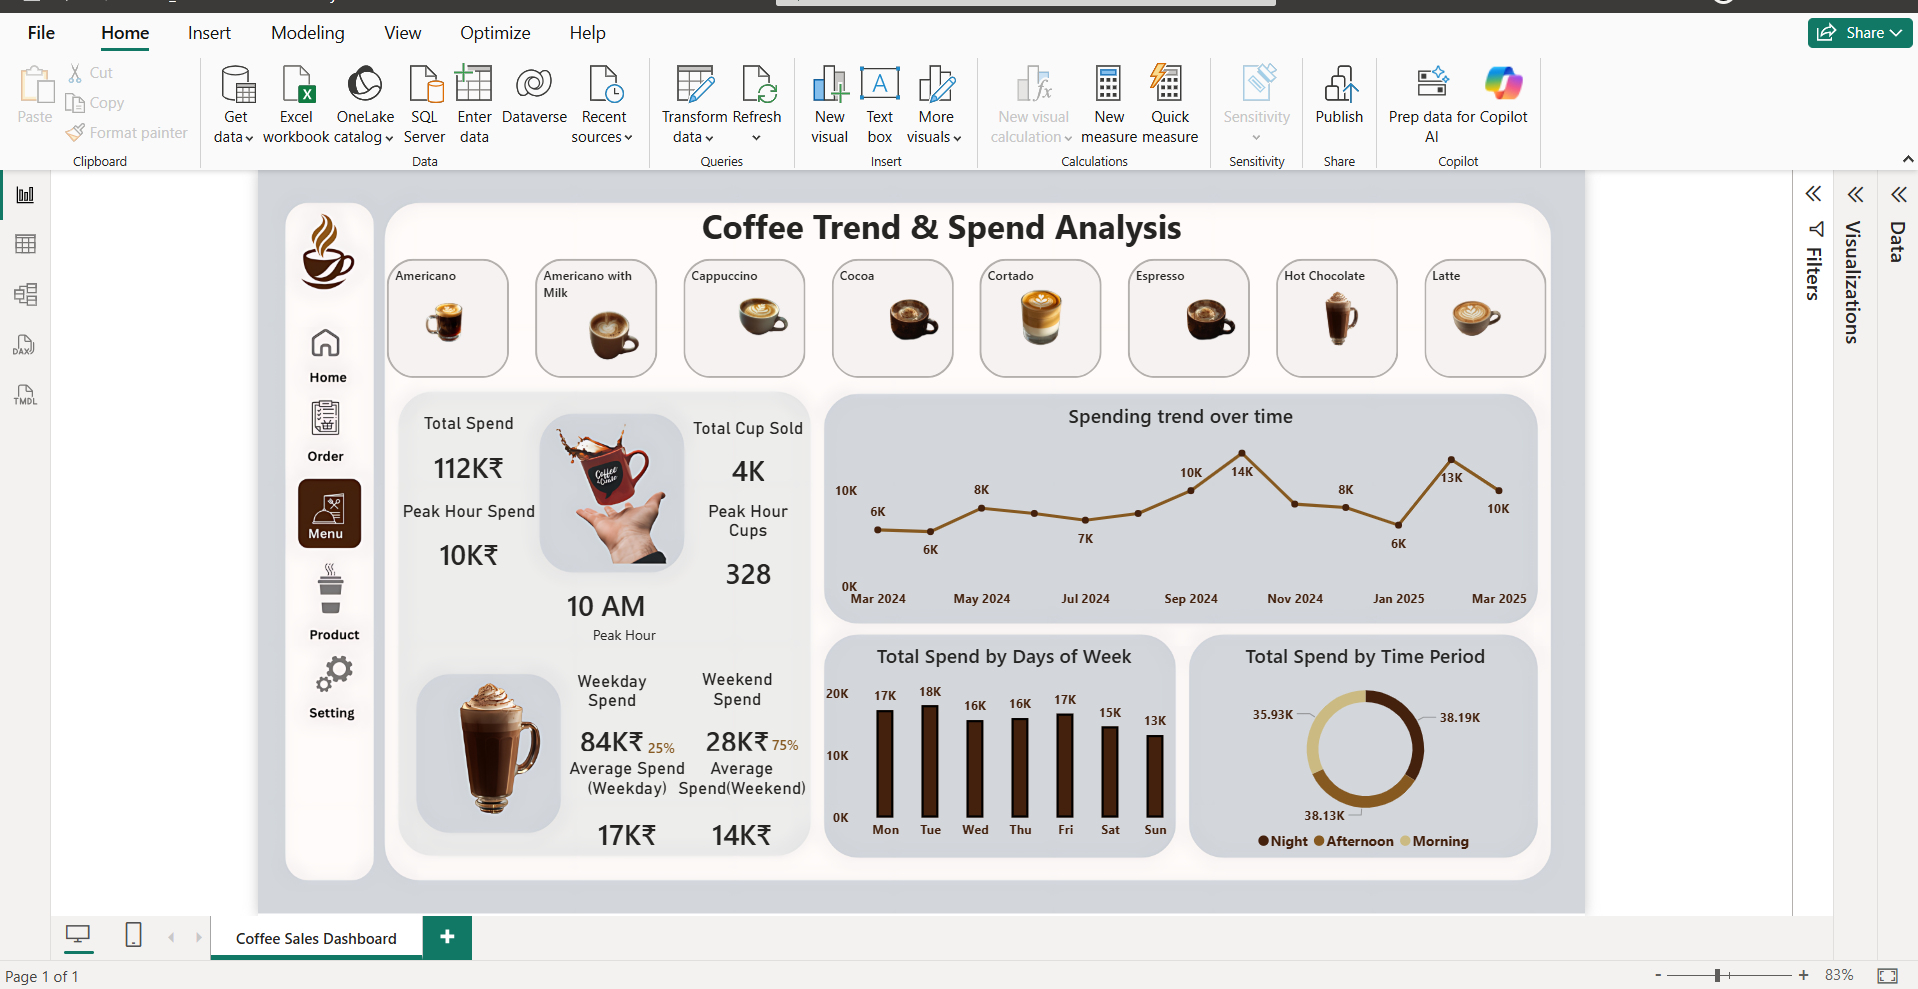

This screenshot's page, from the dashboard's own definition file:
{"tool":"powerbi","page":{"name":"Coffee Sales Dashboard","canvas":[1280,720],"ordinal":0},"visuals":[{"type":"textbox","box":[422.9,27.4,485.7,53.1],"z":0},{"type":"cardVisual","title":"Total Spend","fields":{"Data":["coffee_data.Total_Spen"]},"box":[132.7,234.4,141.6,84],"z":1000},{"type":"cardVisual","title":"Total Cup Sold","fields":{"Data":["coffee_data.Total_Cup_Sold"]},"box":[413.2,238.9,121.2,79.6],"z":2000},{"type":"cardVisual","title":"Peak Hour Spend","fields":{"Data":["coffee_data.Peak_Hours"]},"box":[134.5,318.5,139.8,84],"z":3000},{"type":"cardVisual","title":"Peak Hour Cups","fields":{"Data":["coffee_data.Peak_Hour_Cup"]},"box":[413.2,318.5,121.2,99.1],"z":4000},{"type":"cardVisual","fields":{"Data":["coffee_data.Peak_Hour_Label"]},"box":[269,371.6,134.9,92],"z":5000,"group":"g1"},{"type":"cardVisual","title":"Weekday Spend","fields":{"Data":["coffee_data.WeekDay_Spend"]},"box":[280.5,482.2,123.9,95.5],"z":5000},{"type":"cardVisual","title":"Weekend Spend","fields":{"Data":["coffee_data.WeekEnd_Spend"]},"box":[399,481.3,126.5,96.4],"z":6000},{"type":"cardVisual","fields":{"Data":["coffee_data.% Weekday_Spend"]},"box":[467.1,529.1,84,48.7],"z":7000},{"type":"cardVisual","fields":{"Data":["coffee_data.% WeekEnd_Spend"]},"box":[345.9,529.9,86.7,53.1],"z":8000},{"type":"cardVisual","title":"Average Spend (Weekday)","fields":{"Data":["coffee_data.Weekday_Avg_Spend"]},"box":[289.3,567.1,133.6,107.1],"z":9000},{"type":"cardVisual","title":"Average Spend(Weekend)","fields":{"Data":["coffee_data.WeekEnd_Avg_Spend"]},"box":[399,567.1,135.4,107.1],"z":10000},{"type":"group","id":"g1","title":"Group 1","box":[269,371.6,162.9,91.7],"z":11000},{"type":"textbox","box":[276.7,434.1,154.2,29],"z":11001,"group":"g1"},{"type":"lineChart","title":"Spending trend over time","fields":{"Y":["Sum(coffee_data.money(Rs))"],"Category":["coffee_data.Date.Variation.Date Hierarchy.Year","coffee_data.Date.Variation.Date Hierarchy.Quarter","coffee_data.Date.Variation.Date Hierarchy.Month"]},"box":[551.2,224.7,678.6,207.9],"z":12000},{"type":"clusteredColumnChart","title":"Total Spend by Days of Week","fields":{"Y":["Sum(coffee_data.money(Rs))"],"Category":["coffee_data.Weekday"]},"box":[542.3,456.5,354.8,199.1],"z":13000},{"type":"donutChart","title":"Total Spend by Time Period","fields":{"Category":["coffee_data.Time_of_Day"],"Y":["Sum(coffee_data.money(Rs))"]},"box":[908.6,456.5,321.2,210.6],"z":14000},{"type":"advancedSlicerVisual","fields":{"Values":["coffee_data.coffee_name"]},"box":[119.4,80.5,1129.8,125.6],"z":15000}]}

Visuals, with their boxes on the page's 1280x720 design canvas (x1, y1, x2, y2). These are canvas units, not pixel positions in the 1918x989 screenshot, which may show the page scaled, cropped or inside an application window:
textbox: (423, 27, 909, 80)
"Total Spend" cardVisual: (133, 234, 274, 318)
"Total Cup Sold" cardVisual: (413, 239, 534, 318)
"Peak Hour Spend" cardVisual: (134, 318, 274, 402)
"Peak Hour Cups" cardVisual: (413, 318, 534, 418)
cardVisual - coffee_data.Peak_Hour_Label: (269, 372, 404, 464)
"Weekday Spend" cardVisual: (280, 482, 404, 578)
"Weekend Spend" cardVisual: (399, 481, 526, 578)
cardVisual - coffee_data.% Weekday_Spend: (467, 529, 551, 578)
cardVisual - coffee_data.% WeekEnd_Spend: (346, 530, 433, 583)
"Average Spend (Weekday)" cardVisual: (289, 567, 423, 674)
"Average Spend(Weekend)" cardVisual: (399, 567, 534, 674)
"Group 1" group: (269, 372, 432, 463)
textbox: (277, 434, 431, 463)
"Spending trend over time" lineChart: (551, 225, 1230, 433)
"Total Spend by Days of Week" clusteredColumnChart: (542, 456, 897, 656)
"Total Spend by Time Period" donutChart: (909, 456, 1230, 667)
advancedSlicerVisual - coffee_data.coffee_name: (119, 80, 1249, 206)
